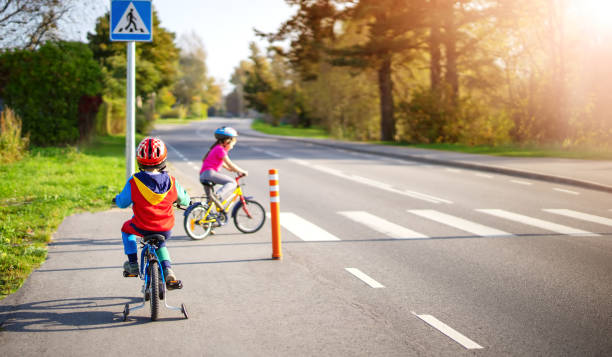yaya: (97, 136, 201, 341), (173, 112, 269, 256)
yaya_gecidi: (110, 2, 160, 45)
